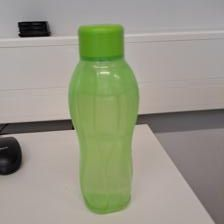bottle: (64, 21, 143, 215)
